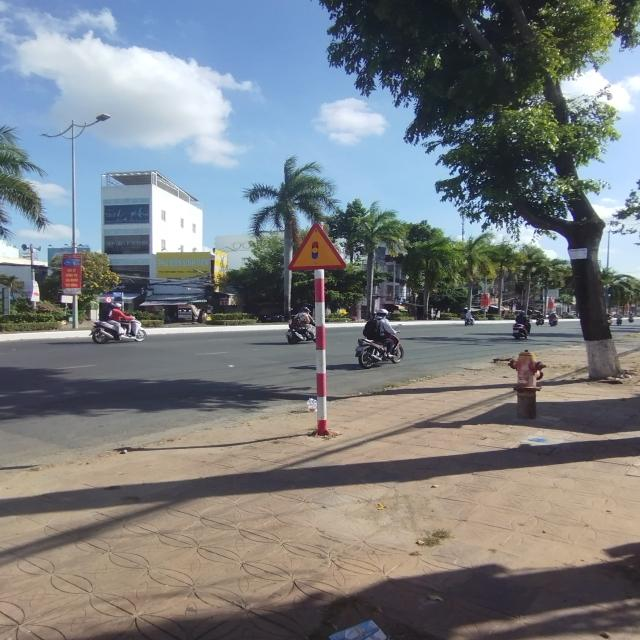Duong_Co_Go_Giam_Toc: (288, 222, 346, 272)
